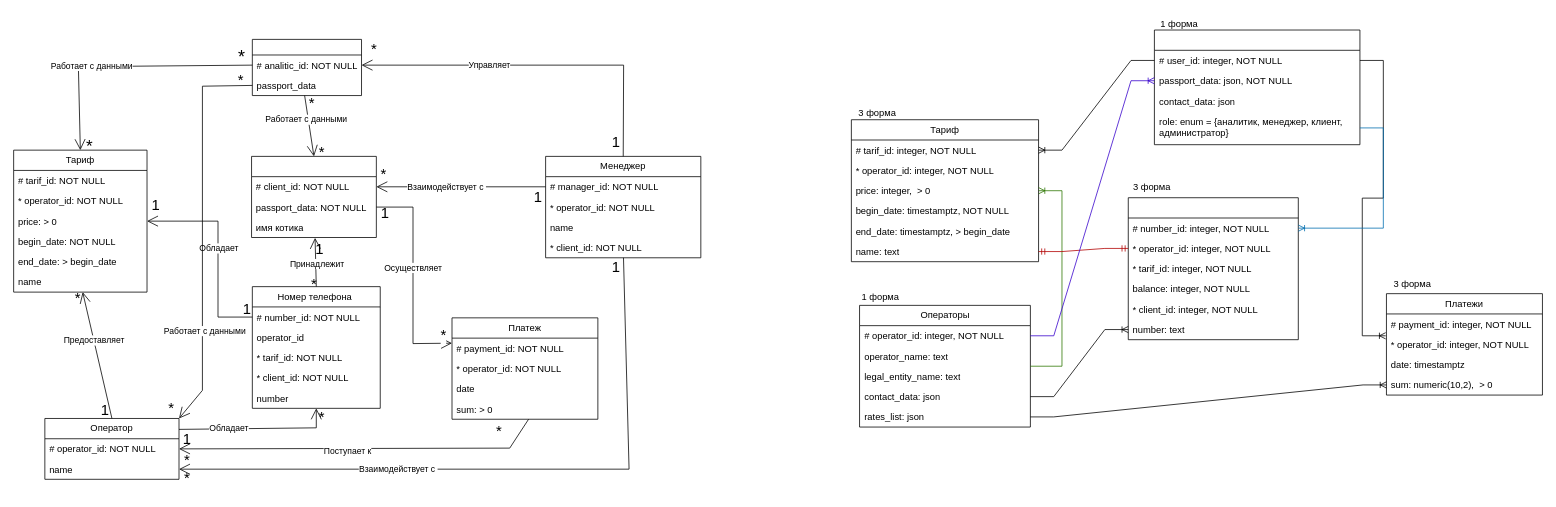
Some shapes in this 1556 by 507 pixel diagram are drawn without their labels. The box of each missing label's shape, as (x1, y1, x2, y2) in pixels:
Аналитик: (252, 39, 362, 96)
Клиент: (251, 156, 376, 238)
Номера телефонов: (1127, 197, 1298, 340)
Пользователь: (1154, 29, 1360, 145)
